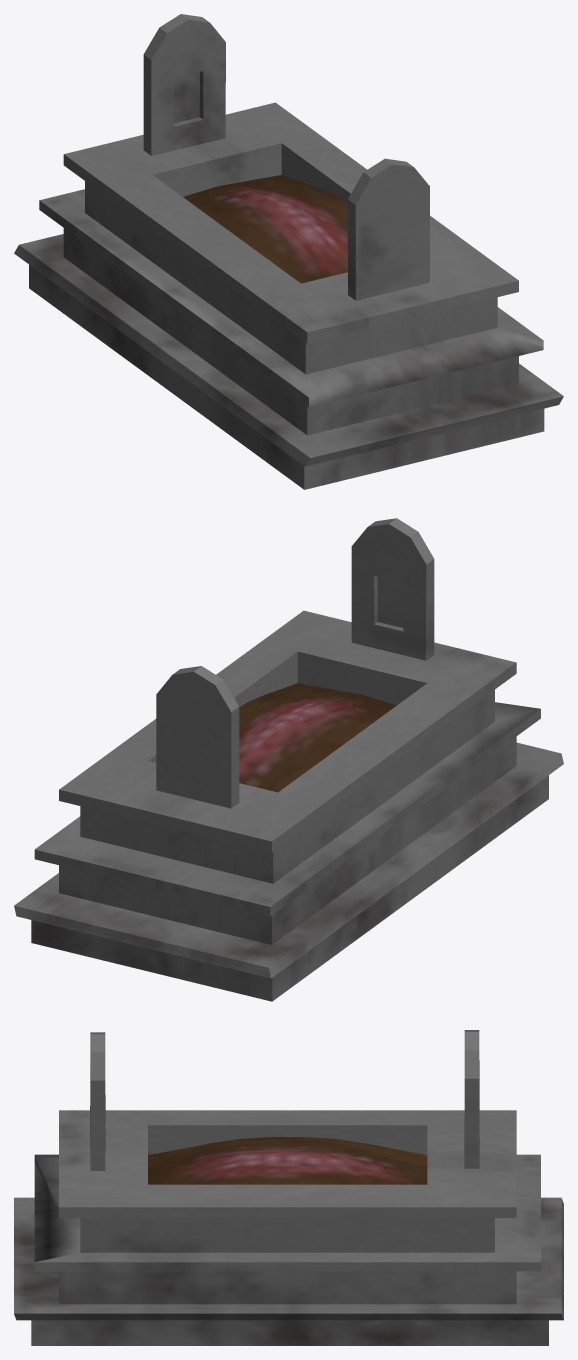
File: Kuburan2.fbx
3 renders of one model, top to bottom at view 1: azimuth 30°, elevation 25°; view 2: azimuth 150°, elevation 25°; view 3: azimuth 270°, elevation 25°, orthographic. The views are drawn at different scales.
Parts seen in each view (by area): view 1: Tomb.001; view 2: Tomb.001; view 3: Tomb.001.
Part boxes in pixels (x1,y1,x2,y2): Tomb.001: [14, 14, 563, 489]; Tomb.001: [14, 518, 563, 1001]; Tomb.001: [14, 1030, 563, 1345].
Size of the model in its own units: 431 by 438 by 850.
